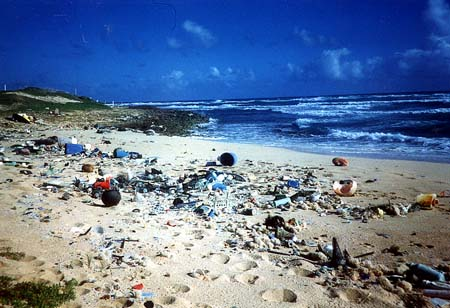litter: (319, 231, 366, 273), (409, 262, 443, 288), (59, 136, 99, 158), (399, 187, 437, 209), (114, 144, 149, 164), (329, 174, 362, 195), (84, 175, 125, 189), (99, 185, 122, 204), (321, 154, 348, 168), (216, 151, 239, 167), (81, 163, 97, 171)
